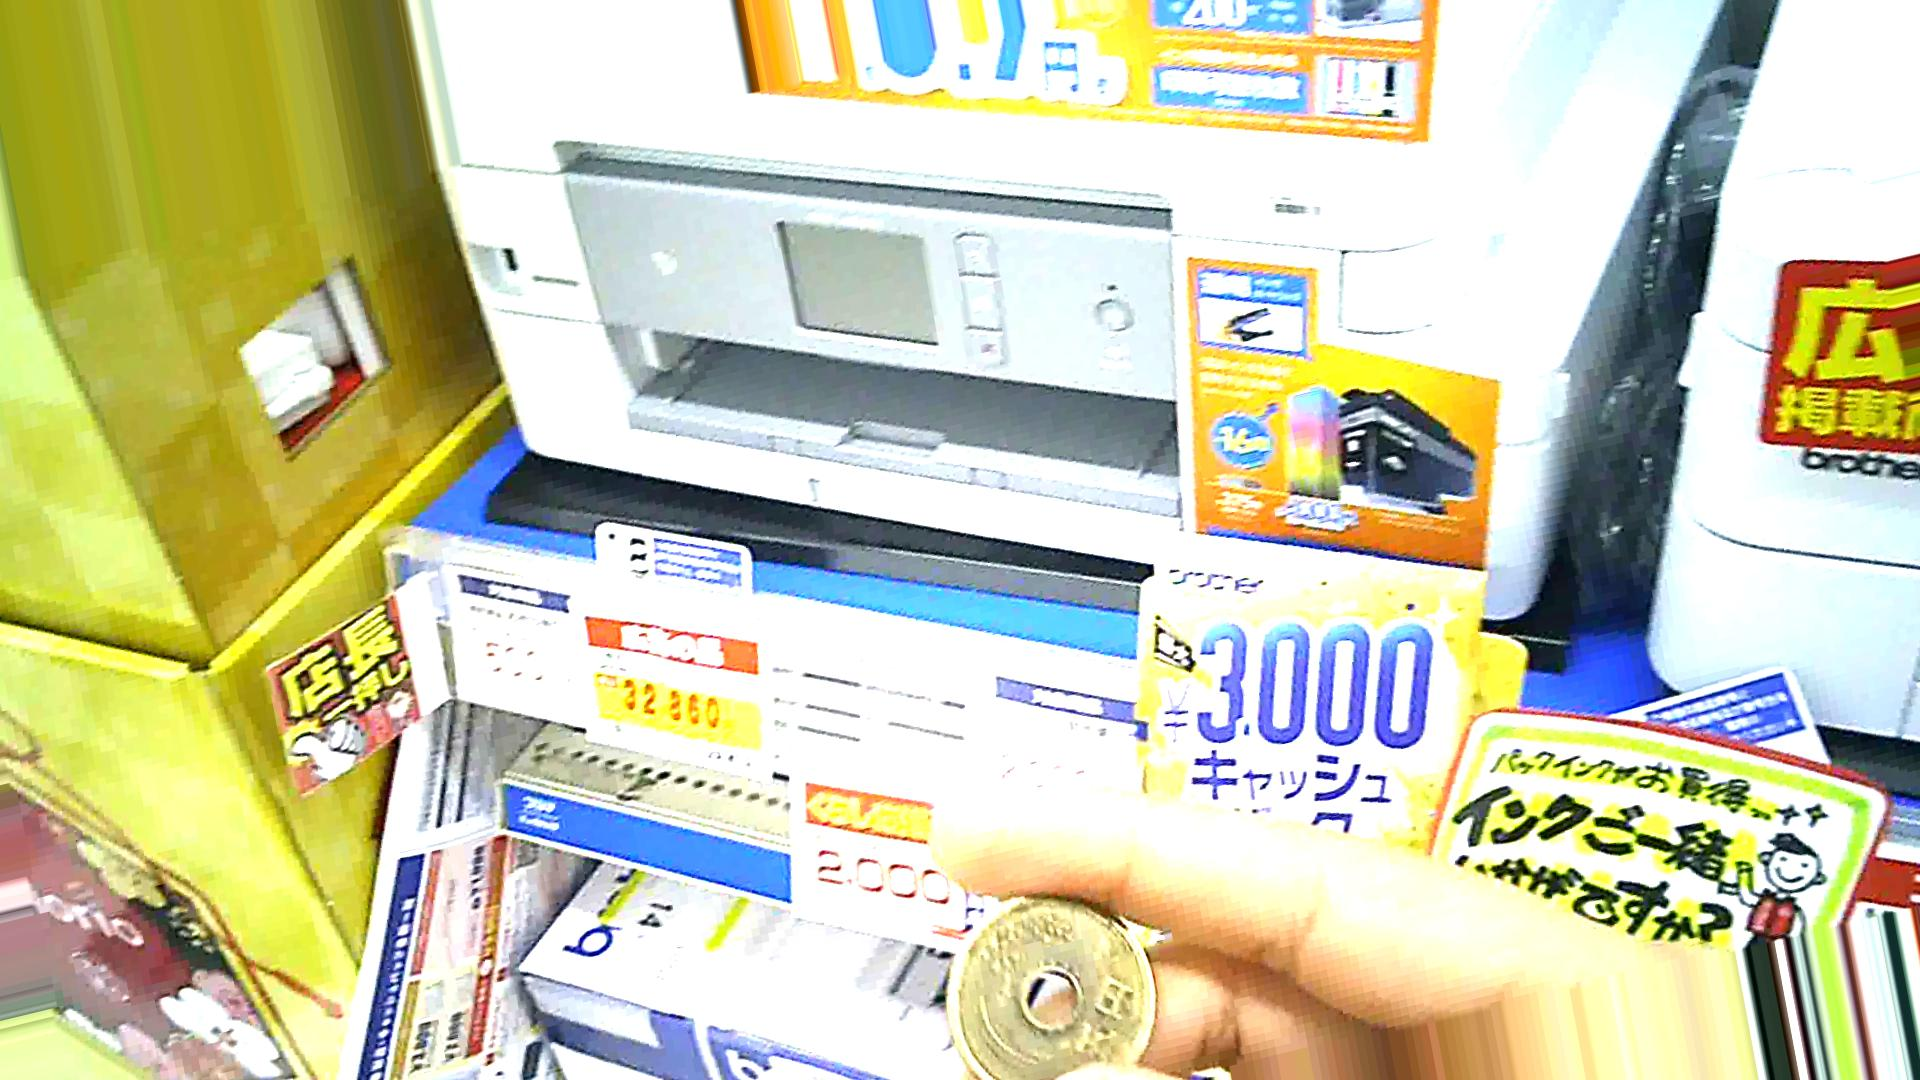5 Yen: (936, 894, 1168, 1073)
